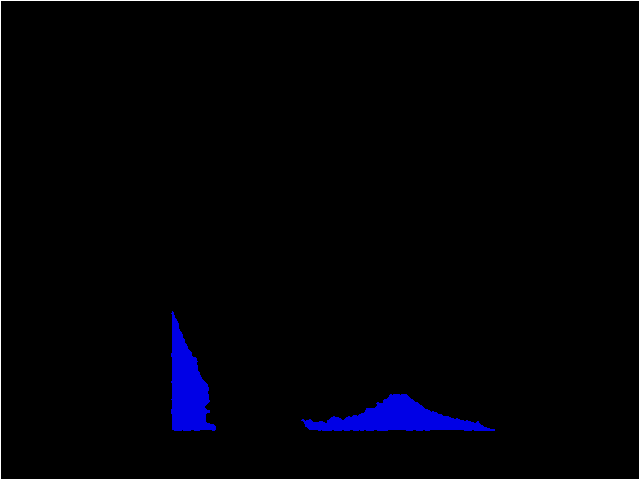defect: (301, 392, 498, 433), (170, 309, 218, 432)
